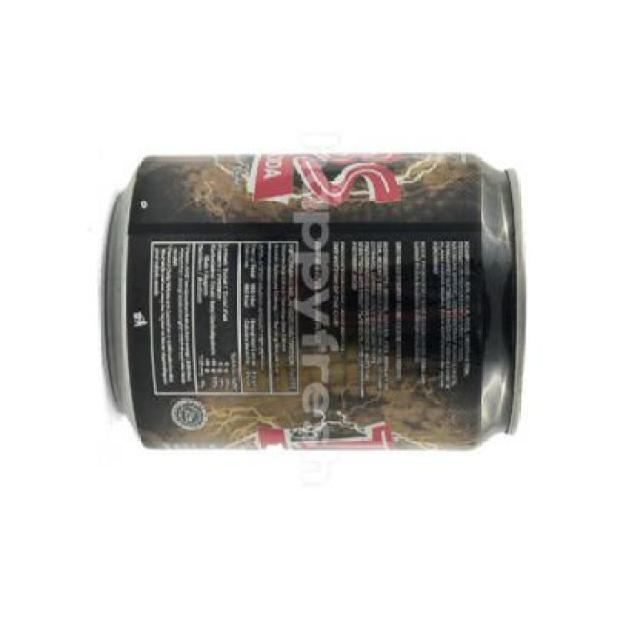Metal: (99, 152, 528, 452)
